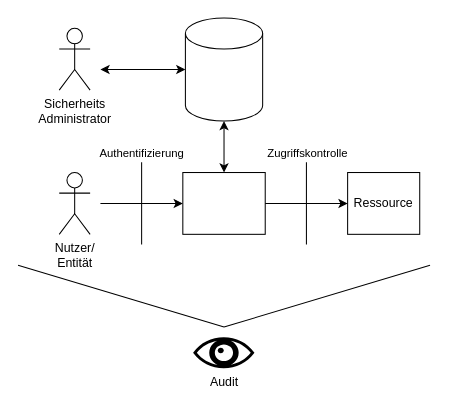
Image size: 449x408. Some labels were removed from this diagram. Each missing label, with the box of its shape:
Authori-sierungs Datenbank: (184, 17, 263, 121)
Referenz Monitor: (182, 171, 265, 234)
